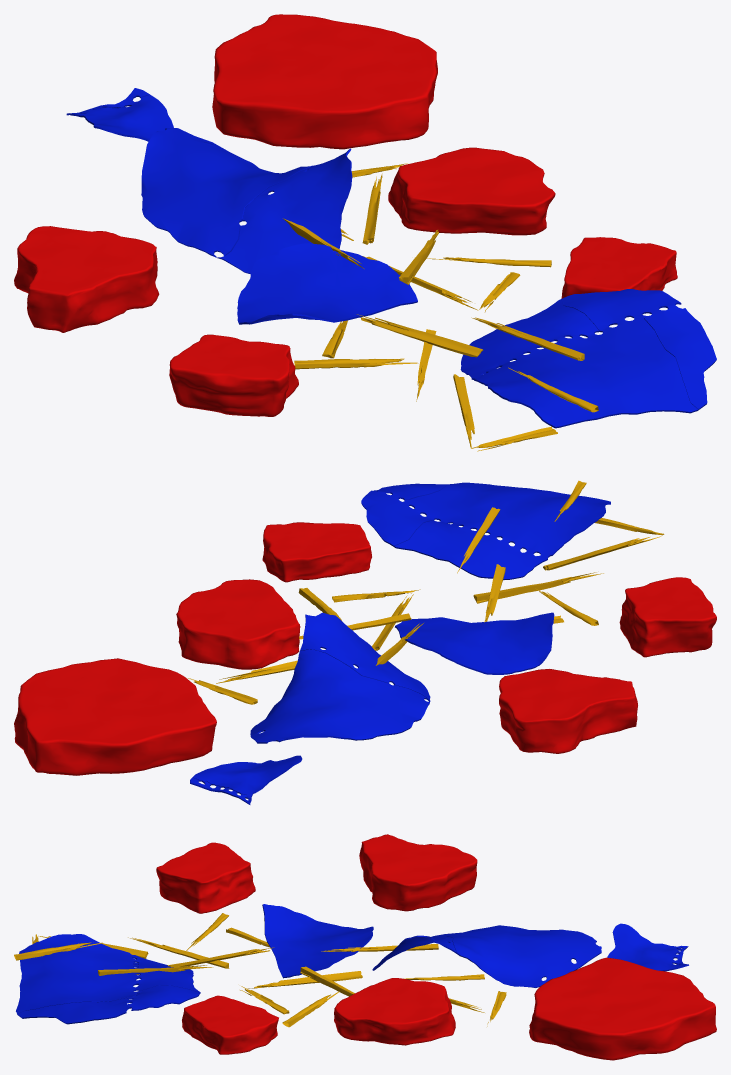
File: debris.FBX
3 renders of one model, top to bottom at view 1: azimuth 30°, elevation 25°; view 2: azimuth 150°, elevation 25°; view 3: azimuth 270°, elevation 25°, orthographic. The views are drawn at different scales.
Visible parts, largest first — view 1: debris; view 2: debris; view 3: debris.
Boxes of the visible parts, x1,y1,x2,y2 form: debris: (14,14,716,451); debris: (14,480,716,804); debris: (14,834,716,1060).
Bounding box in the file's own units: 3.66 × 0.5126 × 5.44.
